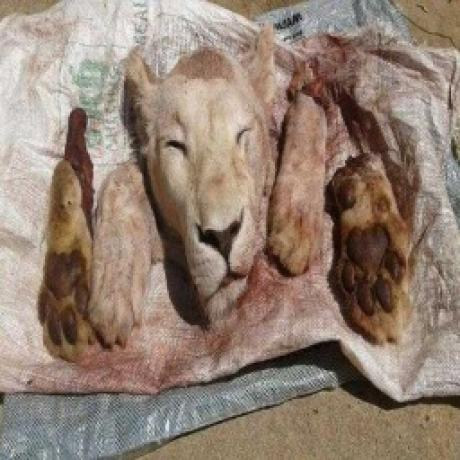Lion: (94, 24, 322, 346)
